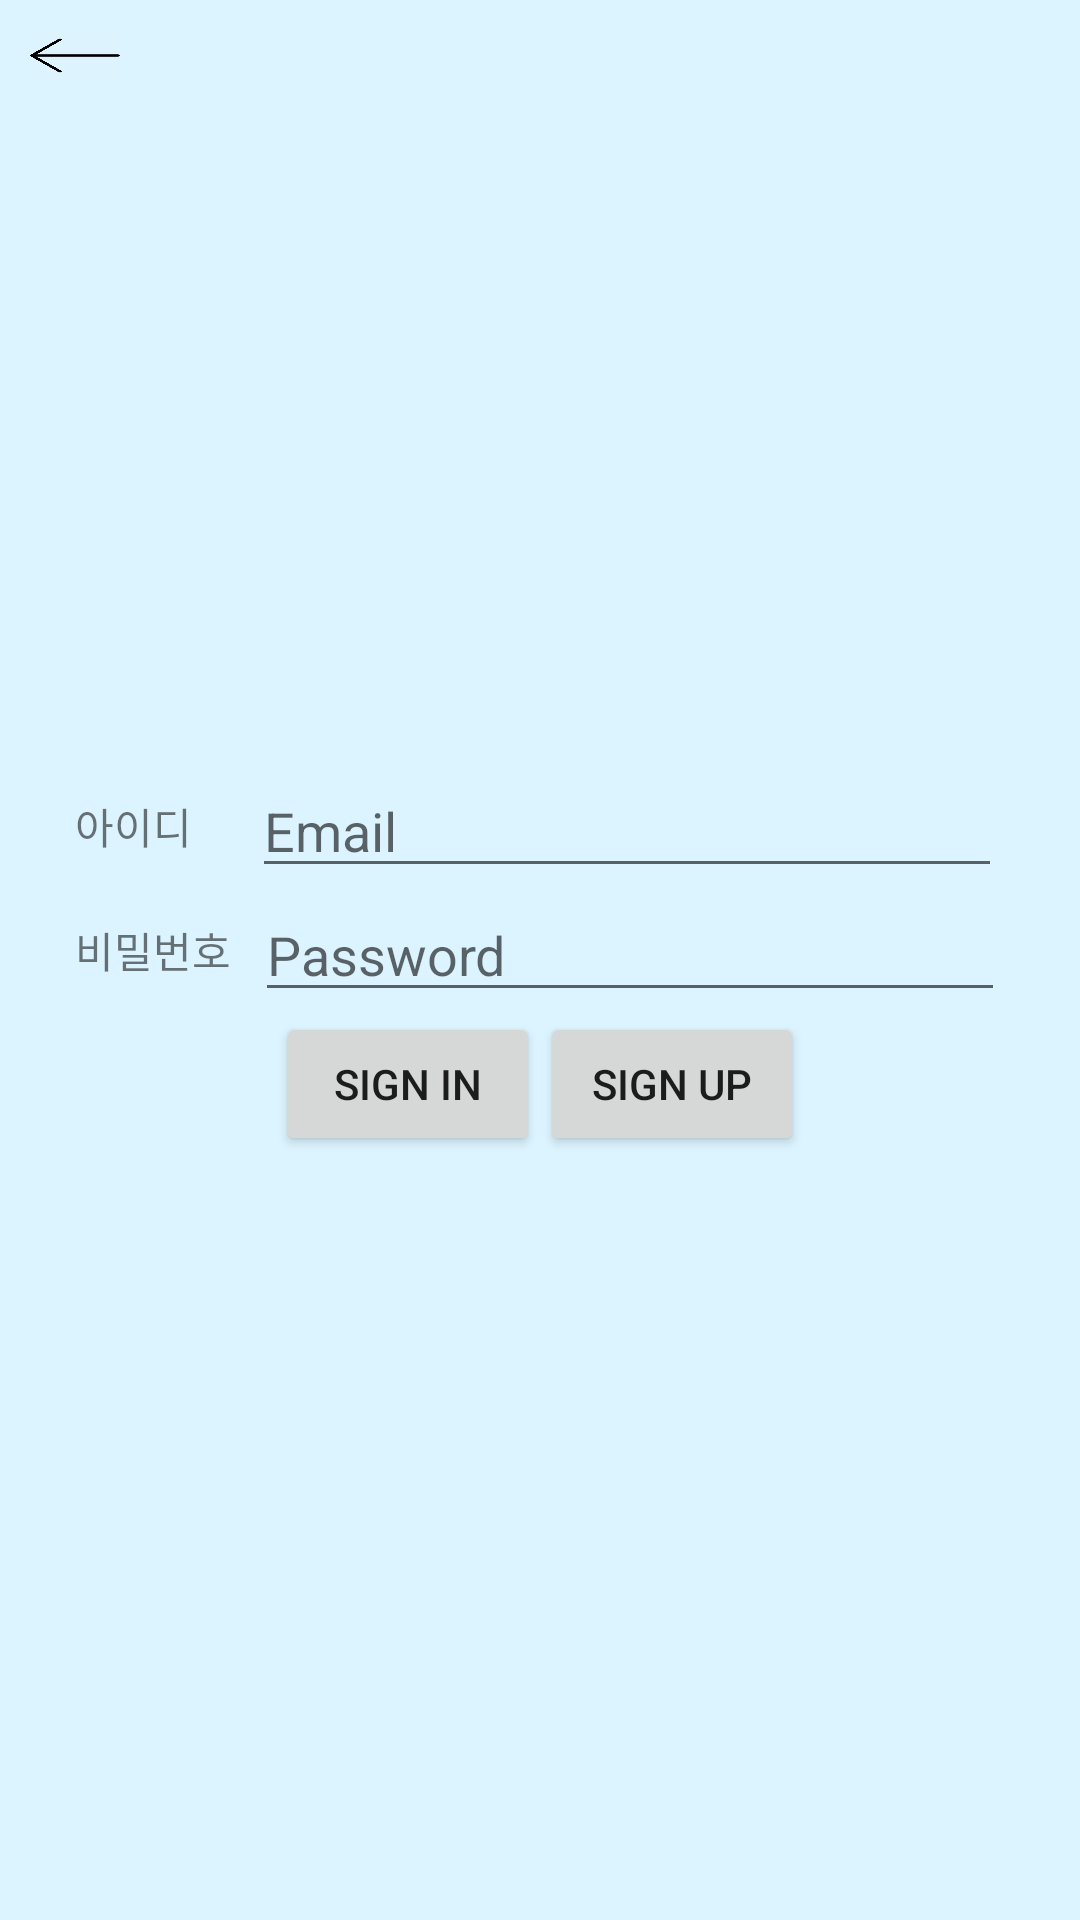

Icons on this 1080 x 1920 Android screen, each with the point to tap as [x,y]:
previous: [75,55]
